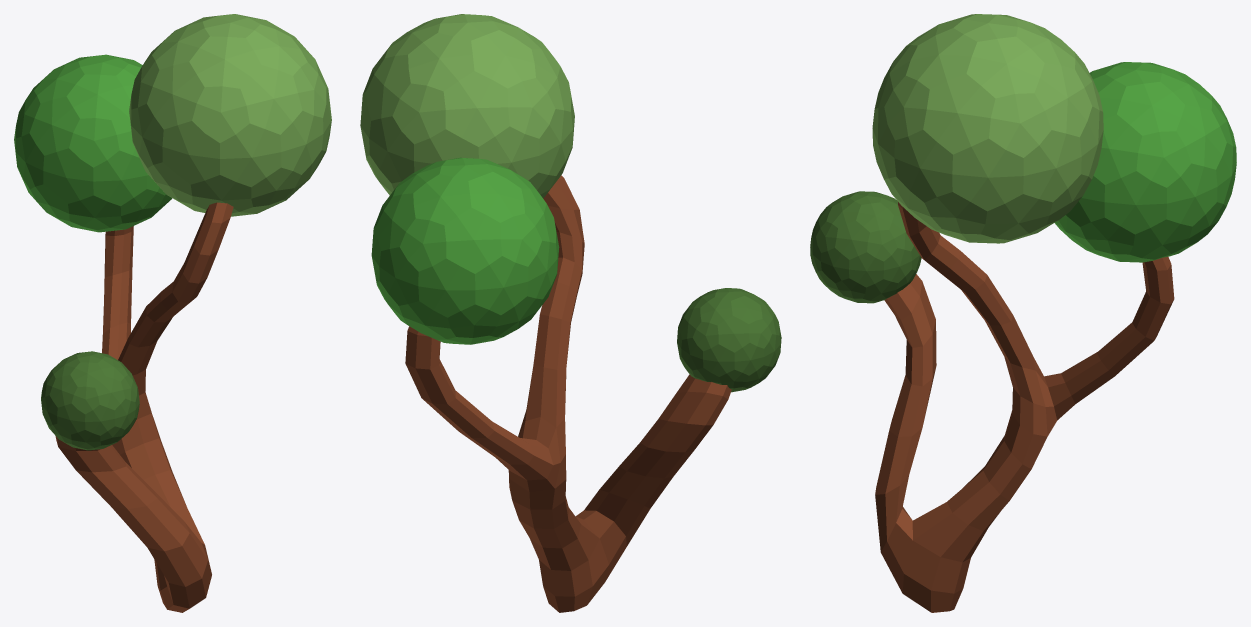
File: tree5.fbx
3 renders of one model, left to right at view 1: azimuth 30°, elevation 25°; view 2: azimuth 150°, elevation 25°; view 3: azimuth 270°, elevation 25°, orthographic. The views are drawn at different scales.
Visible parts, largest first — view 1: Tree5; view 2: Tree5; view 3: Tree5.
Boxes of the visible parts, bbox=[...] form: Tree5: bbox=[14, 14, 331, 612]; Tree5: bbox=[360, 14, 781, 612]; Tree5: bbox=[810, 14, 1236, 612].
Size of the model in its own units: 358 by 584 by 358.
